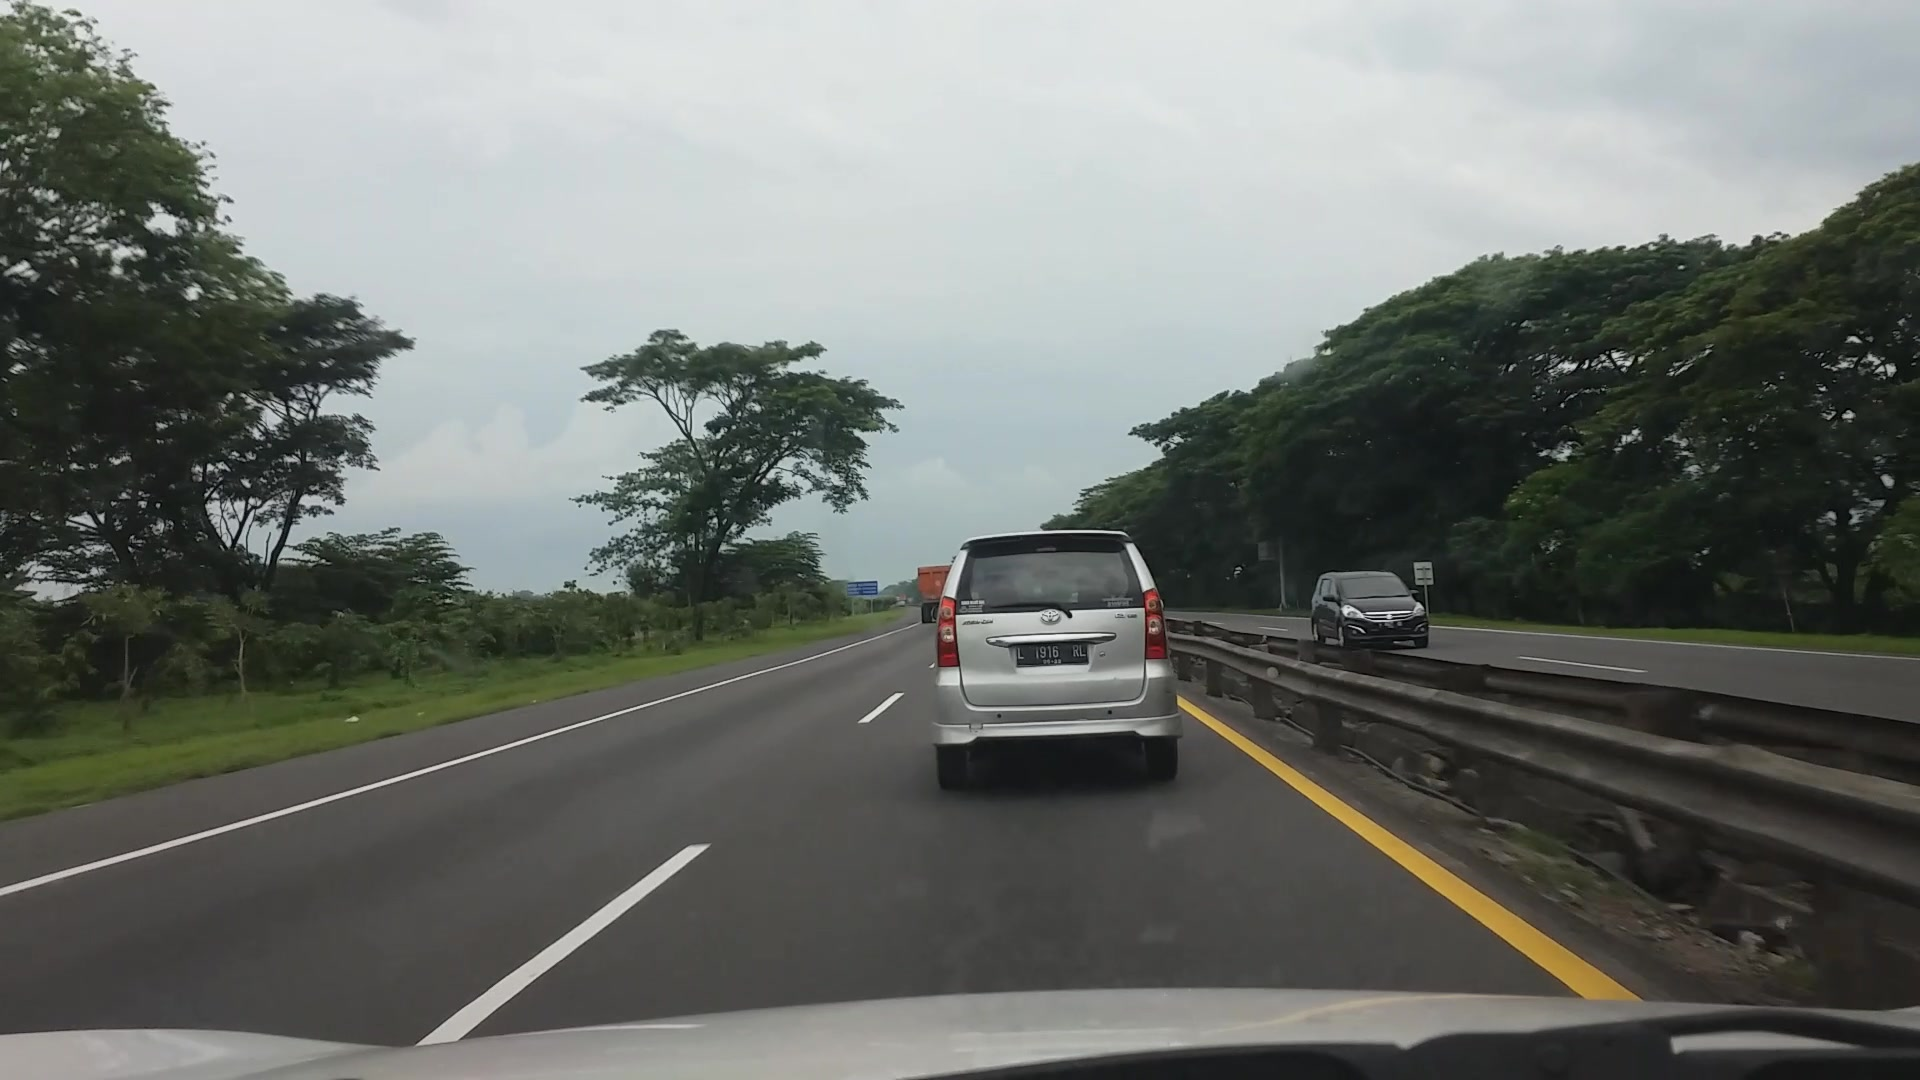plate_positive: (1015, 642, 1088, 666)
